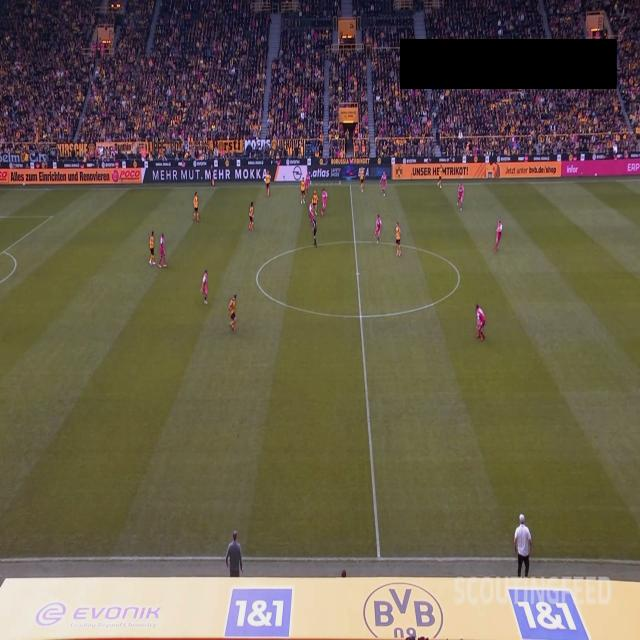f_player: (148, 231, 167, 267), (475, 304, 487, 339), (228, 293, 238, 333), (146, 230, 156, 266), (158, 232, 168, 266), (395, 223, 404, 256), (496, 221, 505, 251), (201, 270, 209, 302), (379, 170, 388, 198), (247, 200, 255, 230), (375, 216, 383, 244), (193, 192, 201, 220), (456, 184, 464, 210), (320, 189, 328, 215), (312, 189, 320, 215), (360, 168, 368, 194), (307, 198, 315, 222), (266, 170, 272, 200), (304, 172, 312, 192), (300, 176, 306, 202), (439, 166, 444, 192)
umpire: (312, 217, 320, 247), (208, 165, 216, 187)
